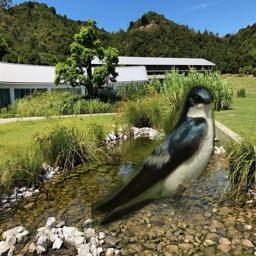Swallow: (91, 83, 215, 229)
